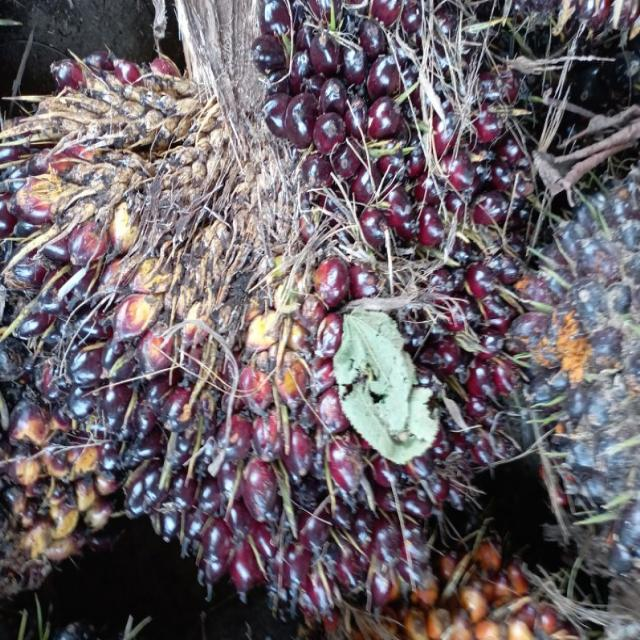fraksi 00: (0, 0, 565, 614)
